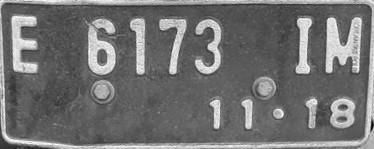1: (126, 15, 151, 79)
3: (190, 16, 230, 79)
6: (80, 15, 120, 76)
7: (156, 16, 188, 79)
E: (7, 12, 46, 78)
I: (292, 12, 316, 78)
M: (322, 14, 365, 77)
